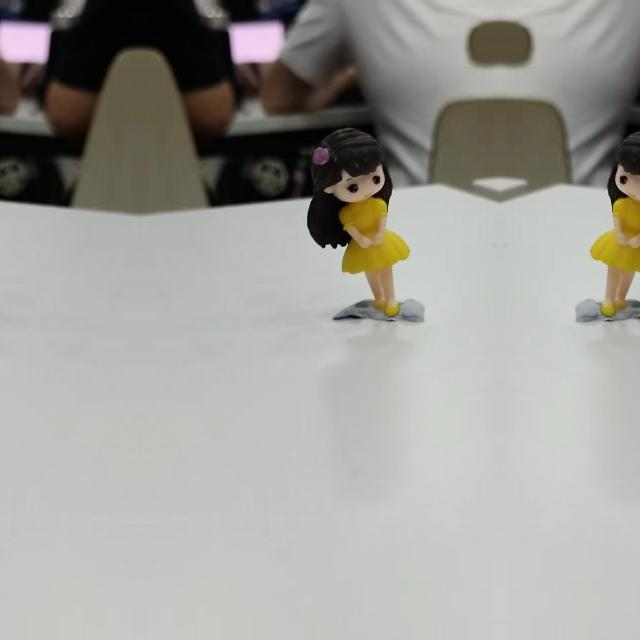woman head: (306, 114, 388, 204), (611, 114, 640, 204)
